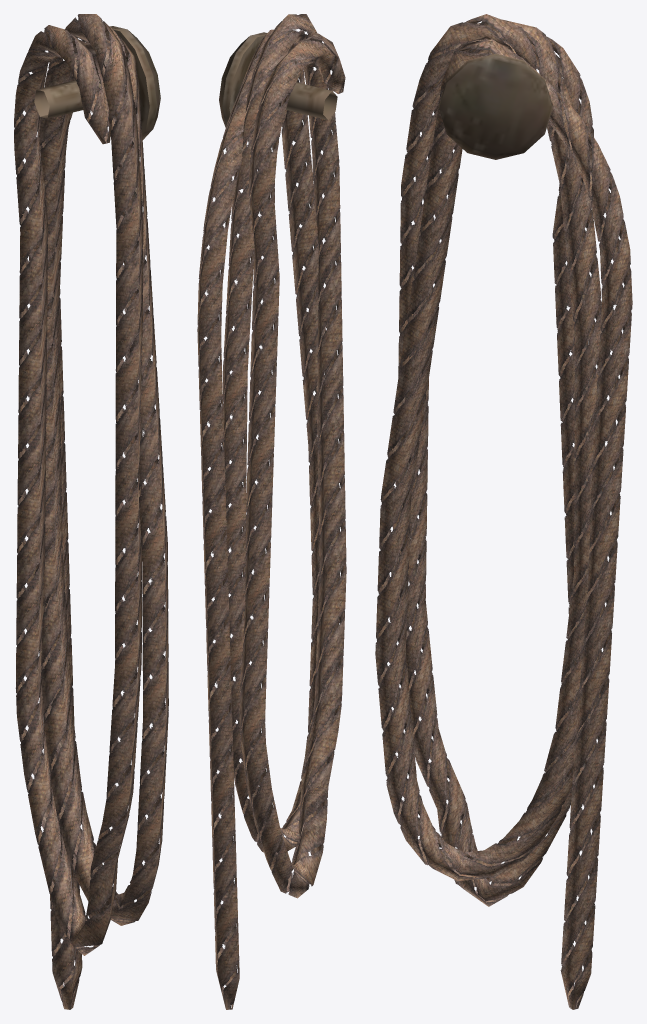
3 renders of one model, left to right at view 1: azimuth 30°, elevation 25°; view 2: azimuth 150°, elevation 25°; view 3: azimuth 270°, elevation 25°, orthographic. The views are drawn at different scales.
Visible parts, largest first — view 1: SM_DR_Rope_06_LOD0; view 2: SM_DR_Rope_06_LOD0; view 3: SM_DR_Rope_06_LOD0.
Part boxes in pixels (<box>): SM_DR_Rope_06_LOD0: <box>14,14,168,1009</box>; SM_DR_Rope_06_LOD0: <box>197,14,346,1009</box>; SM_DR_Rope_06_LOD0: <box>375,14,632,1009</box>.
Bounding box in the file's own units: 0.379 × 3.64 × 0.8599.
Materials: 2 (2 with a texture image).
